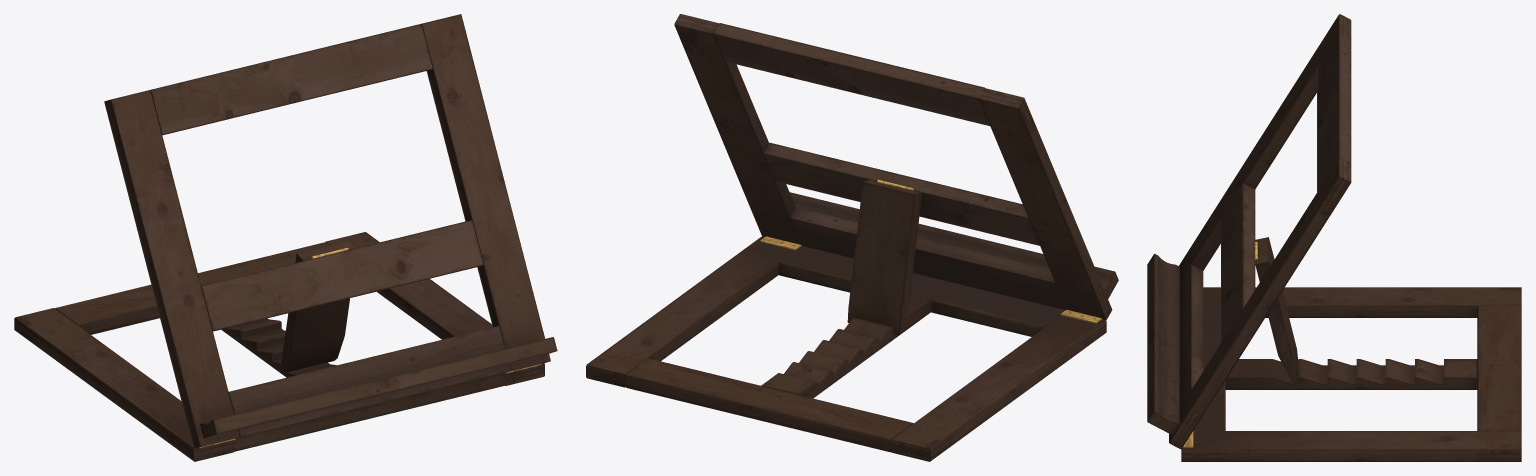
Rendered from bookstand-chocolate.glb.
The picture shows the model from 3 angles, left to right: view 1: azimuth 30°, elevation 25°; view 2: azimuth 150°, elevation 25°; view 3: azimuth 270°, elevation 25°; orthographic projection. The views are drawn at different scales.
Visible parts, largest first — view 1: frame, base, strut, rack; view 2: frame, base, strut, rack; view 3: frame, base, rack, strut.
Boxes of the visible parts, x1,y1,x2,y2 form: frame: [104, 14, 557, 448]; base: [14, 232, 544, 461]; strut: [281, 240, 356, 373]; rack: [221, 318, 336, 377]; frame: [674, 14, 1118, 320]; base: [586, 236, 1106, 461]; strut: [847, 179, 921, 335]; rack: [761, 295, 931, 398]; frame: [1147, 14, 1351, 449]; base: [1181, 287, 1521, 461]; rack: [1225, 359, 1477, 389]; strut: [1254, 237, 1298, 386].
Size of the model in its own units: 0.33 by 0.2708 by 0.321.
1 material, 1 textured.
